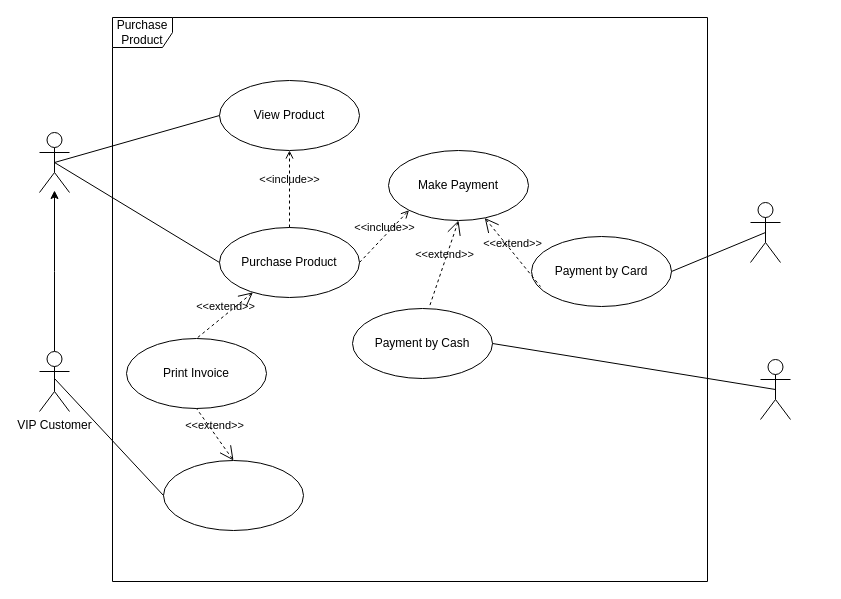
Image size: 841x599. Some labels were removed from this diagram. Here are the shapes that lost their labels. From the top down, the box of each, then its label:
(38, 132, 70, 192): Customer
(750, 202, 780, 262): Delivery Boy
(760, 358, 790, 420): Payment Gateway
(162, 460, 304, 530): Purchase On Credit
